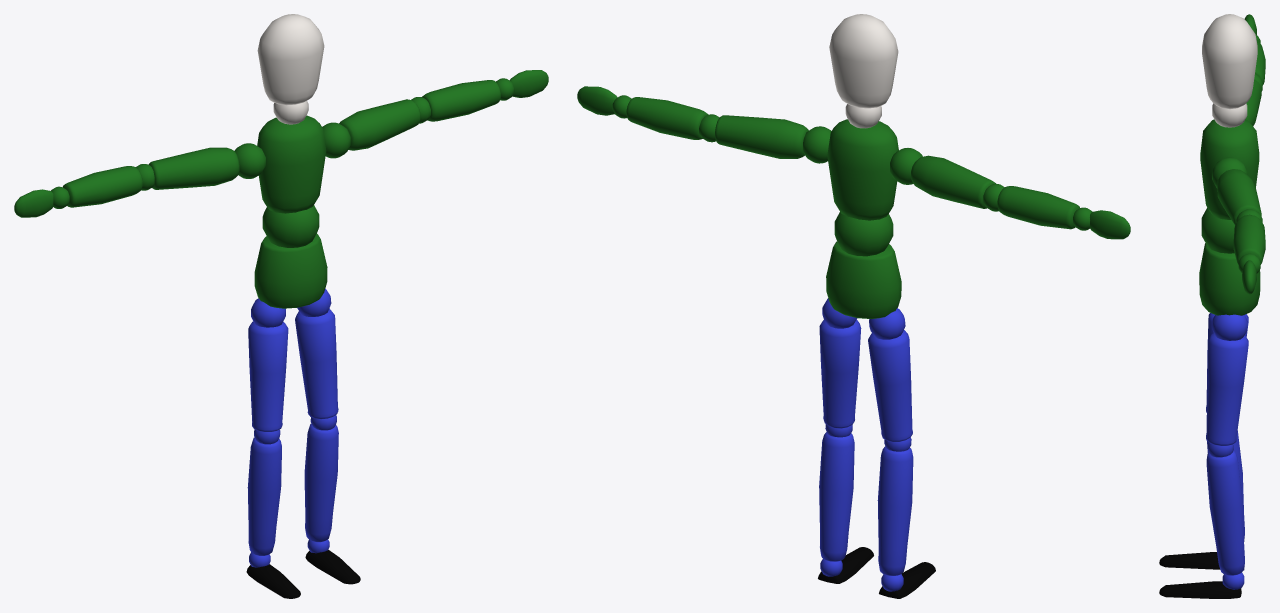
The model's file is human.dae.
The picture shows the model from 3 angles, left to right: view 1: azimuth 30°, elevation 25°; view 2: azimuth 150°, elevation 25°; view 3: azimuth 270°, elevation 25°; orthographic projection. The views are drawn at different scales.
Visible parts, largest first — view 1: Upper_Body, Head, Figure, Right_Thigh, Left_Thigh, Right_Shin, Left_Shin, Right_Upper_Arm, Left_Upper_Arm, Right_Lower_Arm, Left_Lower_Arm, Joint (+6 smaller); view 2: Upper_Body, Head, Figure, Right_Shin, Left_Shin, Right_Thigh, Left_Thigh, Left_Upper_Arm, Right_Upper_Arm, Right_Lower_Arm, Left_Lower_Arm, Joint (+6 smaller); view 3: Head, Left_Thigh, Left_Shin, Upper_Body, Figure, Left_Joint (×5), Left_Upper_Arm, Left_Lower_Arm, Left_Foot, Joint, Right_Foot, Neck (+5 smaller).
Boxes of the visible parts, x1,y1,x2,y2 form: Upper_Body: (257, 115, 326, 213); Head: (257, 14, 324, 105); Figure: (254, 233, 327, 308); Right_Thigh: (248, 321, 288, 431); Left_Thigh: (295, 308, 338, 419); Right_Shin: (247, 437, 281, 555); Left_Shin: (304, 423, 338, 542); Right_Upper_Arm: (148, 147, 239, 189); Left_Upper_Arm: (339, 99, 420, 150); Right_Lower_Arm: (63, 166, 142, 207); Left_Lower_Arm: (422, 80, 500, 121); Joint: (262, 205, 319, 247); Upper_Body: (827, 119, 898, 220); Head: (829, 14, 898, 108); Figure: (826, 241, 901, 318); Right_Shin: (877, 446, 913, 575); Left_Shin: (819, 432, 854, 561); Right_Thigh: (868, 330, 912, 441); Left_Thigh: (819, 319, 861, 428); Left_Upper_Arm: (715, 115, 808, 158); Right_Upper_Arm: (911, 155, 995, 208); Right_Lower_Arm: (997, 186, 1079, 229); Left_Lower_Arm: (626, 97, 708, 139); Joint: (834, 212, 893, 256); Head: (1202, 14, 1257, 109); Left_Thigh: (1206, 333, 1248, 445); Left_Shin: (1206, 451, 1244, 575); Upper_Body: (1200, 119, 1259, 219); Figure: (1199, 243, 1260, 315); Left_Joint (×5): (1207, 157, 1260, 589); Left_Upper_Arm: (1217, 169, 1261, 225); Left_Lower_Arm: (1233, 214, 1265, 264); Left_Foot: (1159, 581, 1241, 598); Joint: (1201, 207, 1234, 253); Right_Foot: (1159, 552, 1220, 569); Neck: (1212, 103, 1247, 127).
Bounding box in the file's own units: 1.88 × 1.85 × 0.3182.
